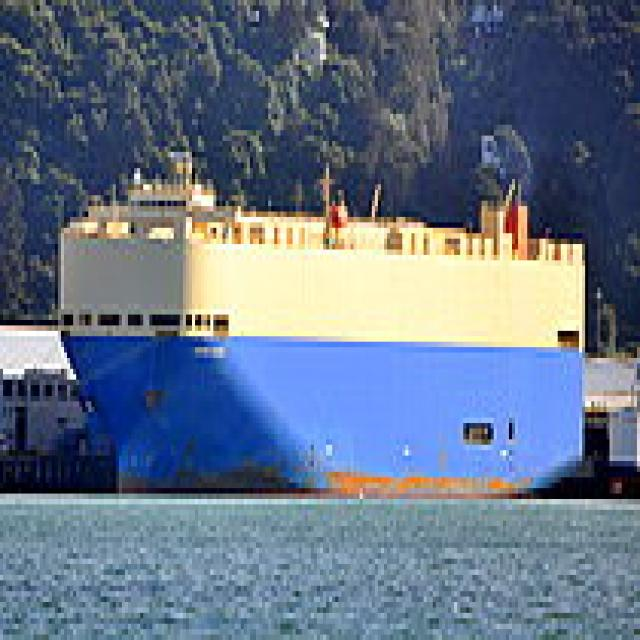Carrier: (52, 136, 585, 488)
